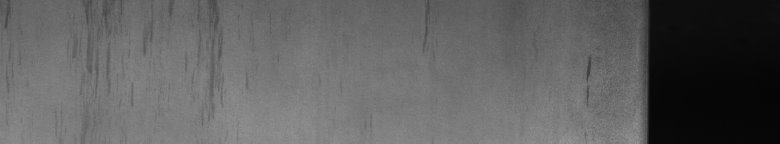ka: (86, 4, 224, 92)
